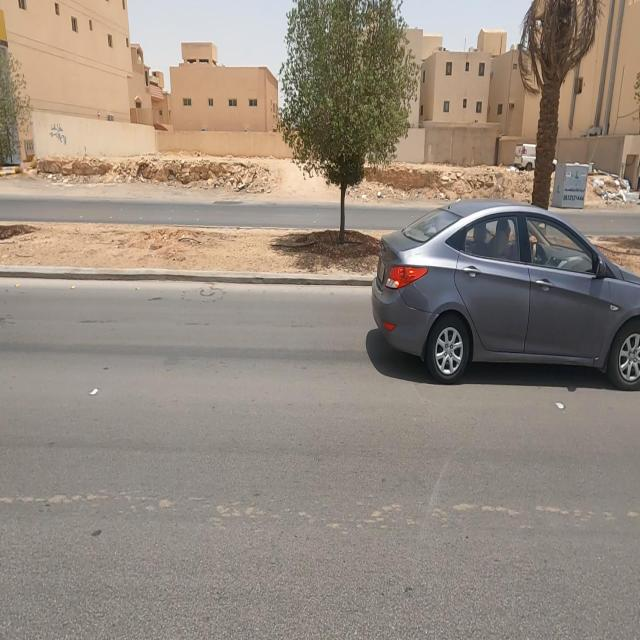Graffiti: (50, 123, 69, 146)
